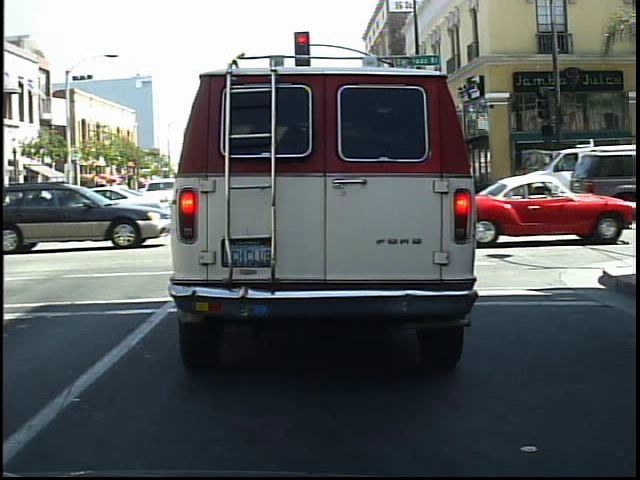person: (589, 142, 614, 209), (538, 152, 562, 210), (513, 156, 535, 207)
